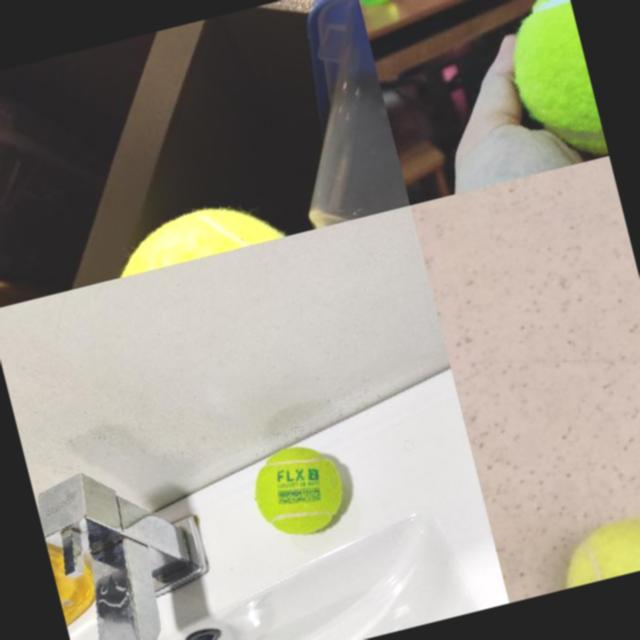tennis-ball: (493, 0, 608, 173), (88, 189, 266, 281), (245, 436, 352, 544), (550, 503, 640, 588)
